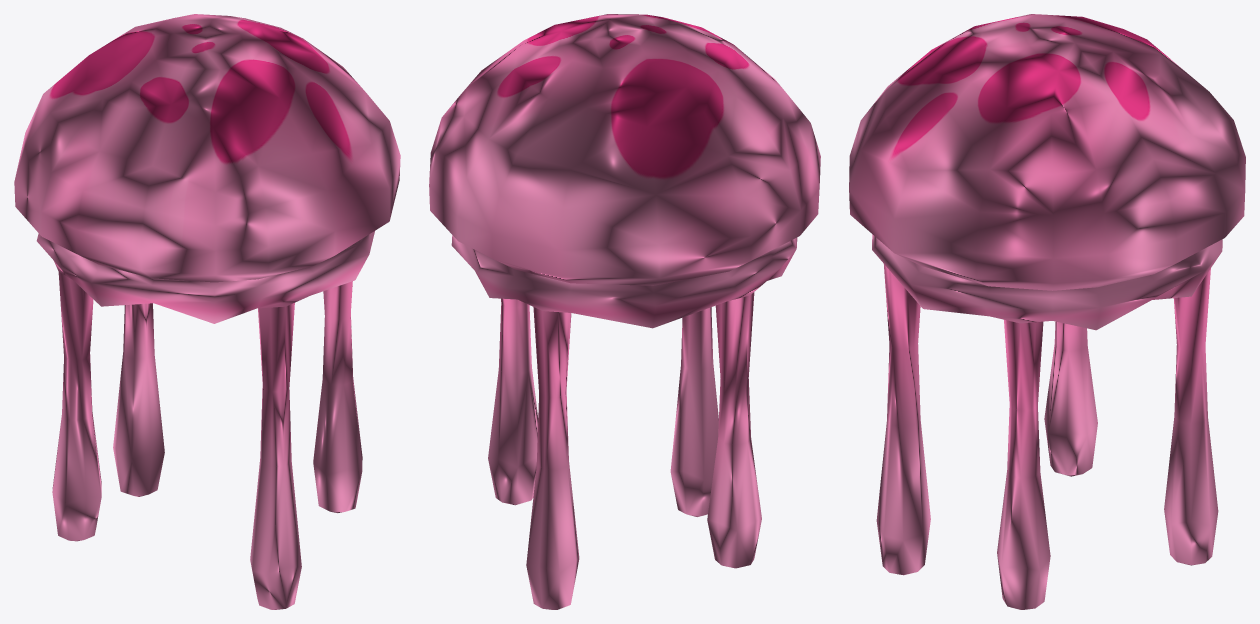
The model's file is jellyfishLowPoly.obj.
The picture shows the model from 3 angles, left to right: view 1: azimuth 30°, elevation 25°; view 2: azimuth 150°, elevation 25°; view 3: azimuth 270°, elevation 25°; orthographic projection. The views are drawn at different scales.
Visible parts, largest first — view 1: Sphere; view 2: Sphere; view 3: Sphere.
Part boxes in pixels (<box>): Sphere: <box>14,14,400,609</box>; Sphere: <box>429,14,820,609</box>; Sphere: <box>849,14,1245,609</box>.
Size of the model in its own units: 2.31 by 3.42 by 2.27.
